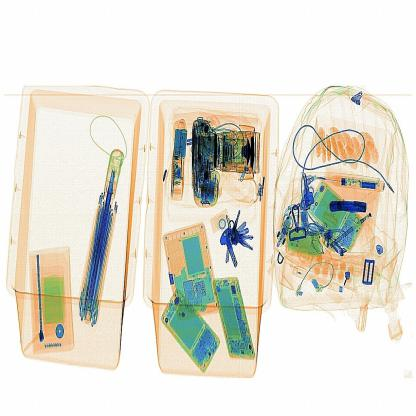knife: (326, 195, 373, 221)
